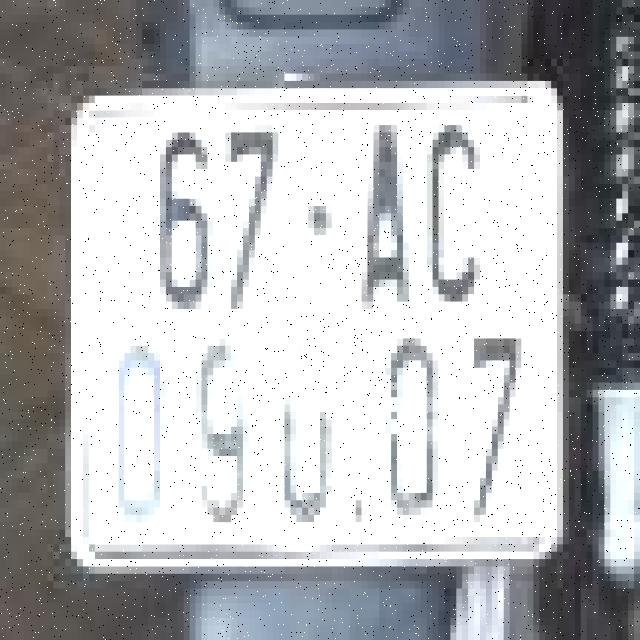0: (276, 331, 340, 530), (380, 331, 444, 530), (110, 338, 169, 530)
6: (151, 121, 216, 320)
7: (222, 121, 282, 320), (468, 331, 528, 522)
9: (187, 331, 252, 537)
A: (358, 118, 418, 316)
C: (424, 114, 489, 313)
